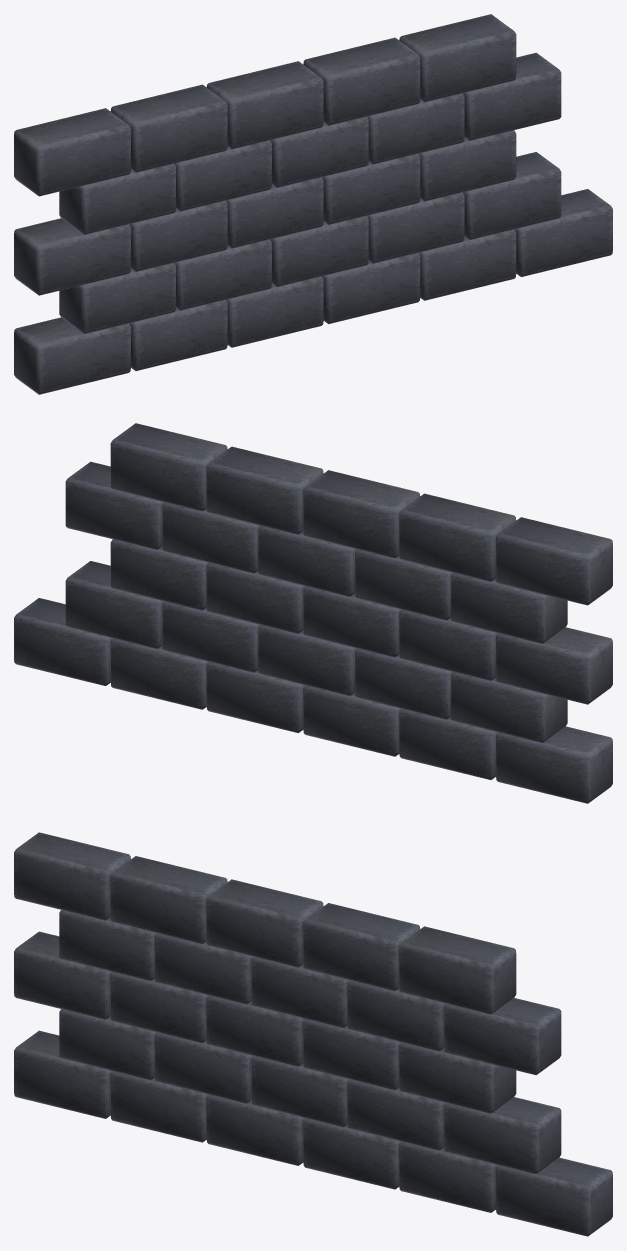
Rendered from SM_Wall_Broken2.fbx.
3 views of the same model, one above another, from view 1: azimuth 30°, elevation 25°; view 2: azimuth 150°, elevation 25°; view 3: azimuth 330°, elevation 25° (orthographic).
Visible parts, largest first — view 1: Cube.003; view 2: Cube.003; view 3: Cube.003.
Boxes of the visible parts, x1,y1,x2,y2 form: Cube.003: [14, 14, 612, 394]; Cube.003: [14, 423, 612, 803]; Cube.003: [14, 832, 612, 1236].
Bounding box in the file's own units: 639 × 262 × 50.55.
